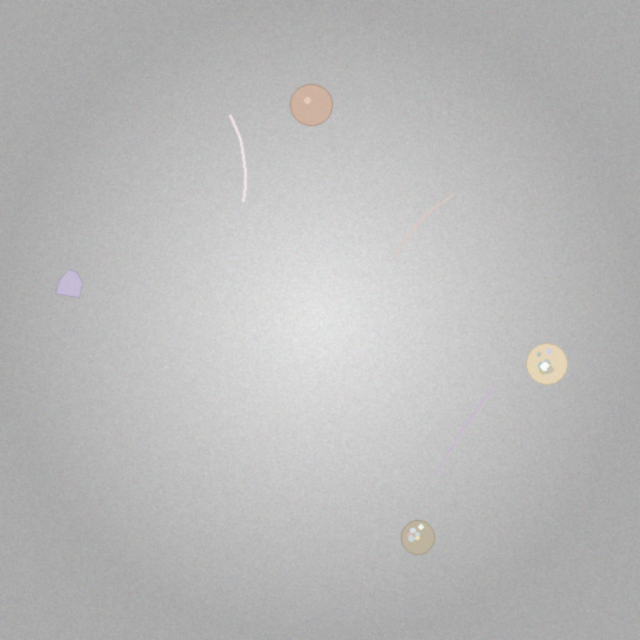fiber: (432, 386, 495, 479), (392, 193, 455, 260), (227, 112, 249, 205)
foam: (527, 343, 567, 384), (401, 521, 435, 554)
fragment: (56, 269, 82, 298)
pellet: (291, 84, 333, 126)
